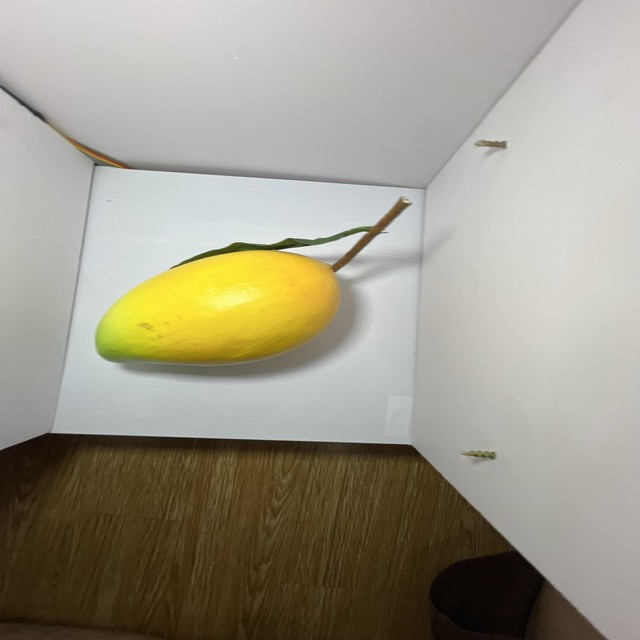Xoai: (86, 244, 346, 369)
